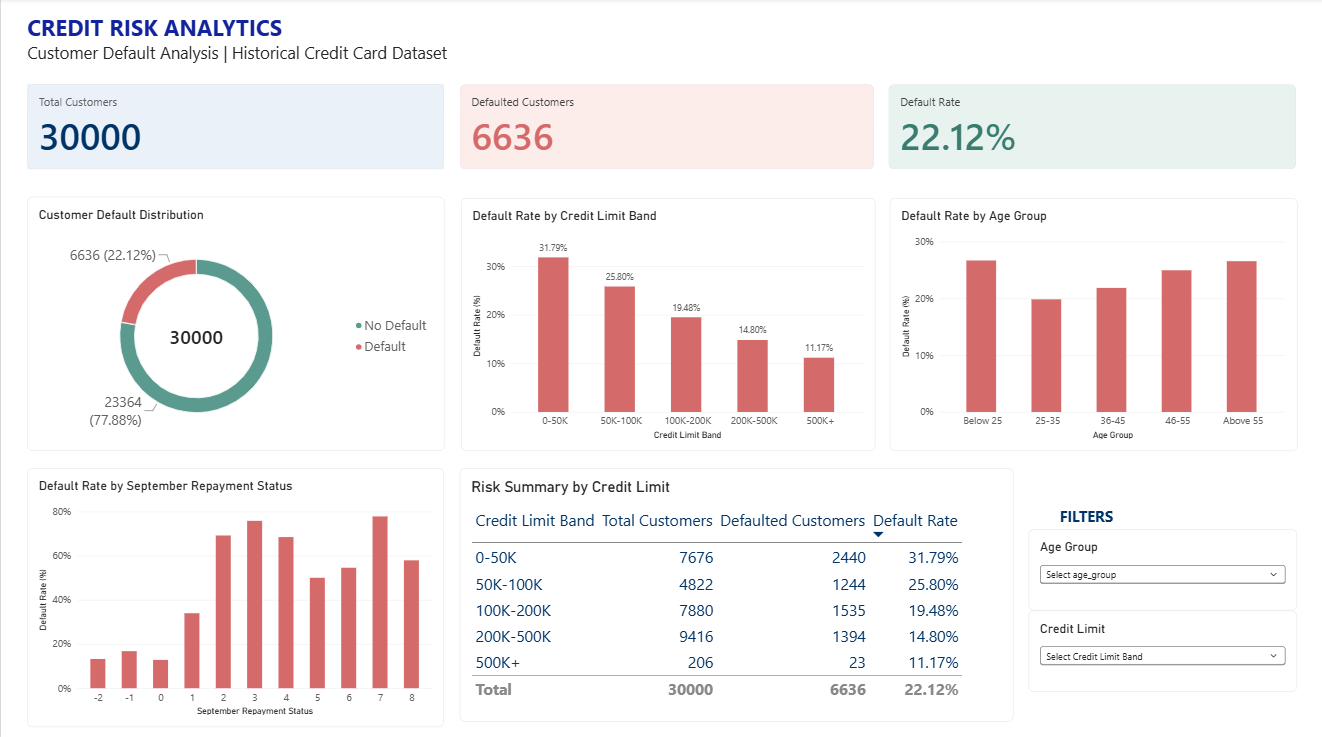

The dashboard page shown, as its layout file describes it:
{"tool":"powerbi","page":{"name":"Page 1","canvas":[1920,1080],"ordinal":0},"visuals":[{"type":"cardVisual","fields":{"Data":["cleaned_credit_data.Total Customers"]},"box":[38.3,125,603.3,123.3],"z":0},{"type":"cardVisual","fields":{"Data":["cleaned_credit_data.Defaulted Customers"]},"box":[665,125,600,123.3],"z":1000},{"type":"cardVisual","fields":{"Data":["cleaned_credit_data.Default Rate"]},"box":[1285,125,590,123.3],"z":2000},{"type":"donutChart","title":"Customer Default Distribution","fields":{"Category":["cleaned_credit_data.default_status"],"Y":["CountNonNull(cleaned_credit_data.id)"]},"box":[38,288,604,368],"z":3000},{"type":"clusteredColumnChart","title":"Default Rate by Credit Limit Band","fields":{"Category":["cleaned_credit_data.credit_limit_band"],"Y":["cleaned_credit_data.Default Rate"]},"box":[666,290,600,366],"z":4000},{"type":"clusteredColumnChart","title":"Default Rate by Age Group","fields":{"Category":["cleaned_credit_data.age_group"],"Y":["cleaned_credit_data.Default Rate"]},"box":[1286,290,590,366],"z":5000},{"type":"clusteredColumnChart","title":"Default Rate by September Repayment Status","fields":{"Category":["cleaned_credit_data.pay_0"],"Y":["cleaned_credit_data.Default Rate"]},"box":[38,680,603.3,375],"z":6000},{"type":"tableEx","title":"Risk Summary by Credit Limit","fields":{"Values":["cleaned_credit_data.credit_limit_band","cleaned_credit_data.Total Customers","cleaned_credit_data.Defaulted Customers","cleaned_credit_data.Default Rate"]},"box":[664.3,680,801.4,367.1],"z":7000},{"type":"listSlicer","title":"Age Group","fields":{"Values":["cleaned_credit_data.age_group"]},"box":[1487.1,768.6,388.6,117.9],"z":7000,"group":"g1"},{"type":"textbox","box":[38.3,20,870,105],"z":8000},{"type":"listSlicer","title":"Credit Limit","fields":{"Values":["cleaned_credit_data.Credit Limit Band"]},"box":[1487.1,886.5,388.6,117.9],"z":8000,"group":"g1"},{"type":"group","id":"g1","title":"Group 1","box":[1487.1,768.6,388.6,235.7],"z":9000,"group":"g2"},{"type":"textbox","box":[1531.6,734.3,188,30.2],"z":10000,"group":"g2"},{"type":"group","id":"g2","title":"Group 2","box":[1487.1,734.3,388.6,270],"z":10001}]}

Visuals, with their boxes in screenshot pixels (x1, y1, x2, y2), scaled from the page's 1920x1080 canvas onto the 1322x737 screenshot:
cardVisual - cleaned_credit_data.Total Customers: 26:85:442:169
cardVisual - cleaned_credit_data.Defaulted Customers: 458:85:871:169
cardVisual - cleaned_credit_data.Default Rate: 885:85:1291:169
"Customer Default Distribution" donutChart: 26:197:442:448
"Default Rate by Credit Limit Band" clusteredColumnChart: 459:198:872:448
"Default Rate by Age Group" clusteredColumnChart: 885:198:1292:448
"Default Rate by September Repayment Status" clusteredColumnChart: 26:464:442:720
"Risk Summary by Credit Limit" tableEx: 457:464:1009:715
"Age Group" listSlicer: 1024:524:1291:605
textbox: 26:14:625:85
"Credit Limit" listSlicer: 1024:605:1291:685
"Group 1" group: 1024:524:1291:685
textbox: 1055:501:1184:522
"Group 2" group: 1024:501:1291:685
